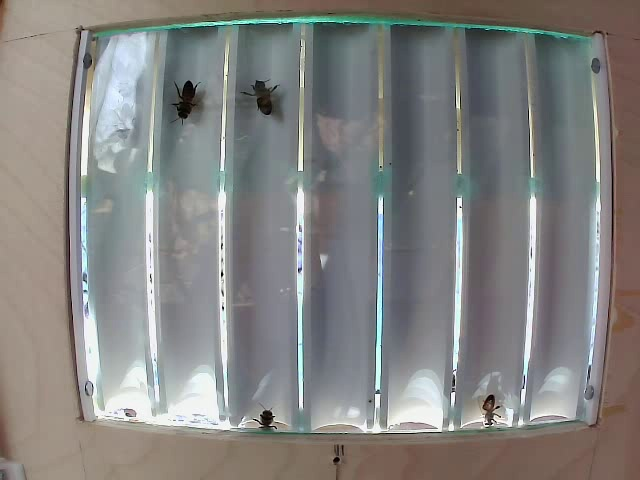bee: (235, 66, 293, 126), (164, 76, 206, 134)
